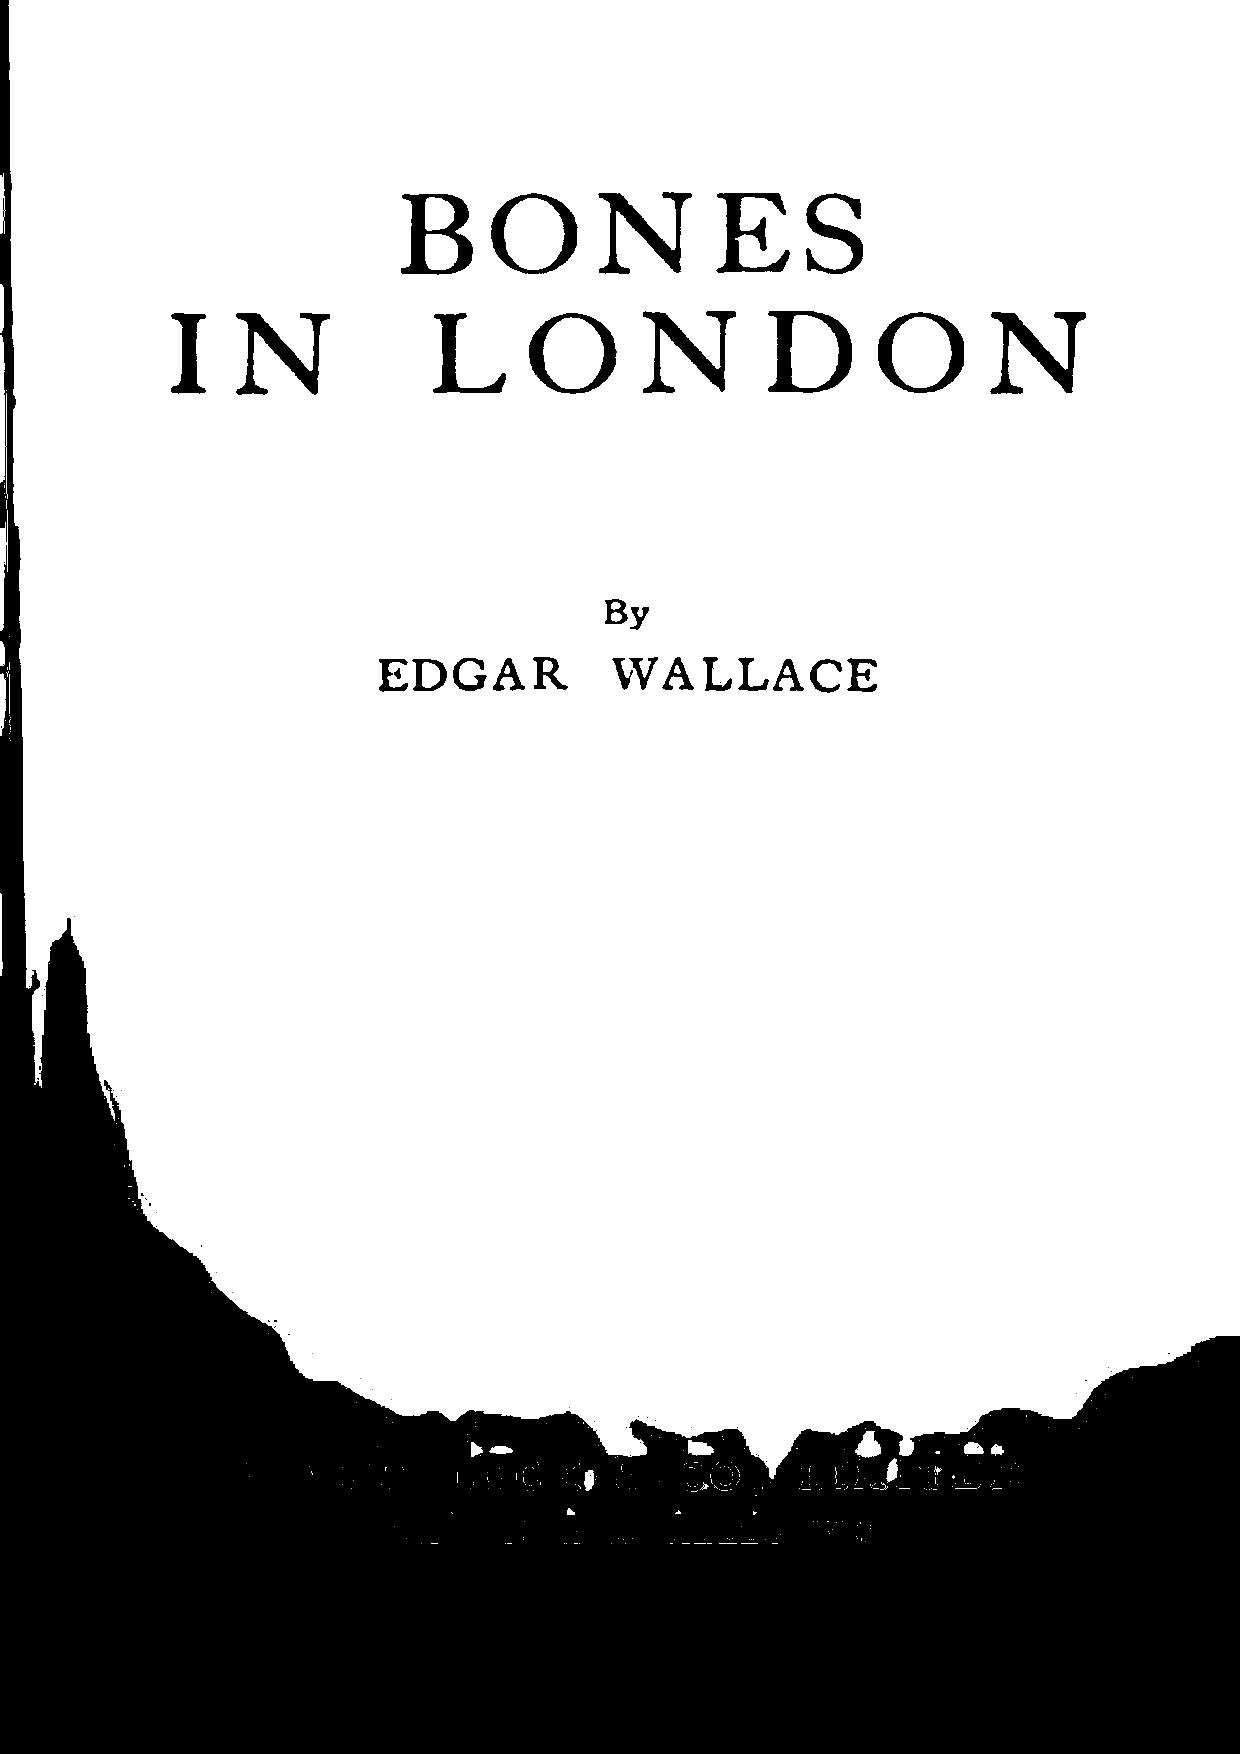author: (376, 596, 879, 695)
title: (161, 188, 1086, 393)
